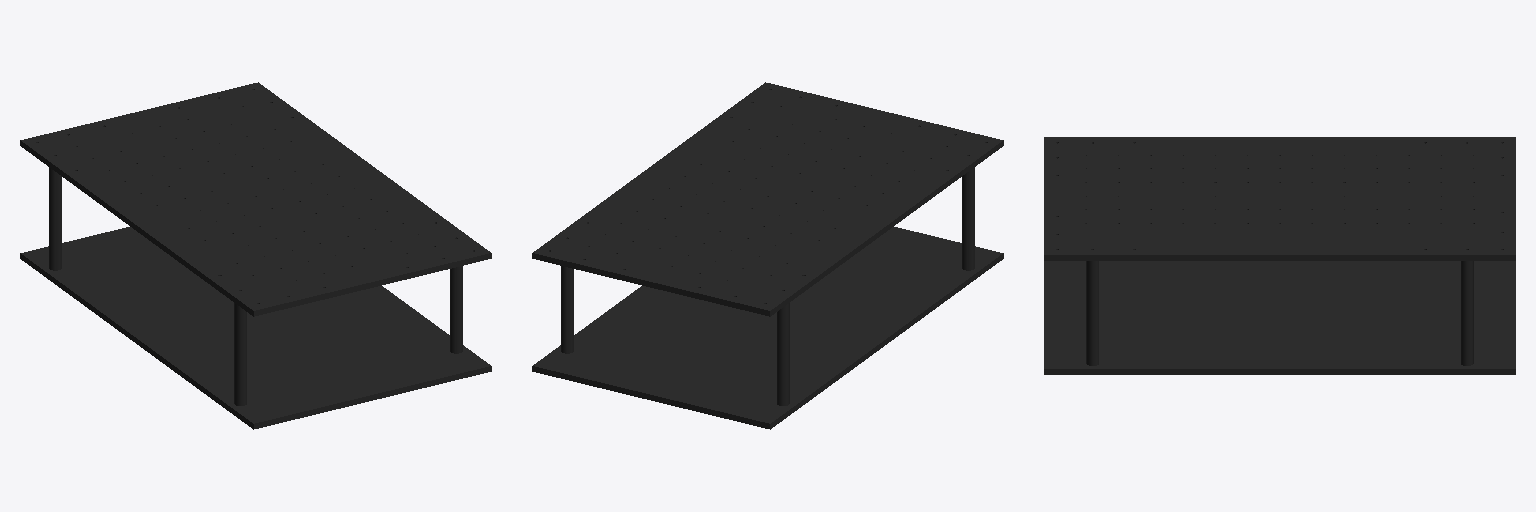
The robot description file, URDF, robot "ttable_env":
<?xml version="1.0" ?>
<!-- =================================================================================== -->
<!-- |    This document was autogenerated by xacro from /home/user/prime/ChanukHwang/RobotAgentSystem/tools/ros2/dex_ros/isaac-ros/kistar_ws/src/franka_kistar_bringup/urdf/ttable.urdf.xacro | -->
<!-- |    EDITING THIS FILE BY HAND IS NOT RECOMMENDED                                 | -->
<!-- =================================================================================== -->
<robot name="ttable_env">
  <material name="mid_gray">
    <color rgba="0.55 0.55 0.55 1.0"/>
  </material>
  <material name="dark_gray">
    <color rgba="0.20 0.20 0.20 1.0"/>
  </material>
  <material name="collision_red">
    <color rgba="1.0 0.0 0.0 1.0"/>
  </material>
  <link name="ttable_link"/>
  <link name="ttable_top">
    <visual>
      <!-- <origin xyz="-0.185 -0.8 -0.75" rpy="0 0 0"/> -->
      <origin rpy="0 0 0" xyz="-0.815 -0.75 -0.955"/>
      <geometry>
        <mesh filename="package://franka_kistar_bringup/meshes/table/table.STL" scale="0.001 0.001 0.001"/>
      </geometry>
      <material name="dark_gray"/>
    </visual>
    <collision>
      <origin rpy="0 0 0" xyz="0.05 0. -0.35"/>
      <geometry>
        <box size="0.5 0.75 0.7"/>
      </geometry>
      <material name="collision_red"/>
    </collision>
  </link>
  <joint name="ttable_top_joint" type="fixed">
    <parent link="ttable_link"/>
    <child link="ttable_top"/>
    <origin rpy="0 0 0" xyz="0 0 0"/>
  </joint>
</robot>

--- What the picture shows (computed from the rendered views, not written in the file) ---
3 views of the same robot in one strip: view 1: azimuth 30°, elevation 25°; view 2: azimuth 150°, elevation 25°; view 3: azimuth 270°, elevation 25° (orthographic).
Robot: ttable_env — 2 links, 1 joints (1 fixed); root link ttable_link; default pose: all joints at 0.
Links seen in each view (by area): view 1: ttable_top; view 2: ttable_top; view 3: ttable_top.
Boxes of the visible links, x1,y1,x2,y2 form: ttable_top: (20,82,491,429); ttable_top: (532,82,1003,429); ttable_top: (1044,137,1515,374).
Bounding box of the posed robot: 0.43 × 0.73 × 0.205 m (x, y, z).
1 mesh visuals loaded from 1 distinct referenced files (1 binary STL).
